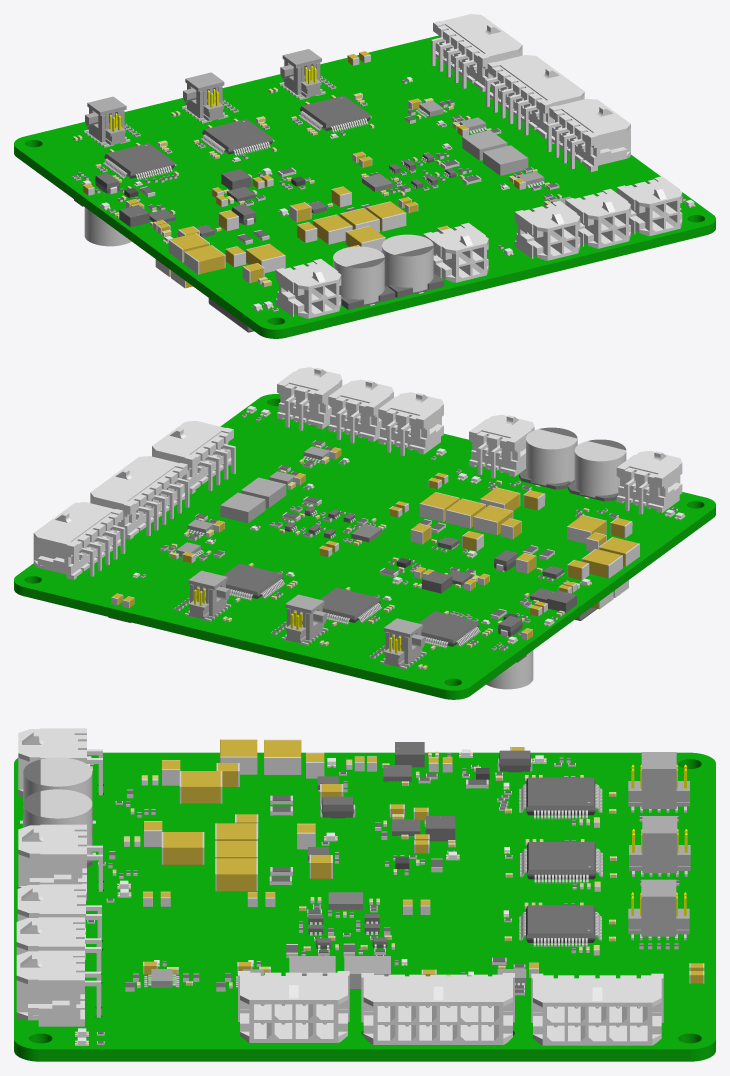
File: recovery-board.glb
3 renders of one model, top to bottom at view 1: azimuth 30°, elevation 25°; view 2: azimuth 150°, elevation 25°; view 3: azimuth 270°, elevation 25°, orthographic. The views are drawn at different scales.
Visible parts, largest first — view 1: Node3, Node10, Node9, Node2, Node25, Node15, Node22, Node18, Node16, Node5, Node24, Node4 (+5 smaller); view 2: Node3, Node10, Node9, Node2, Node25, Node15, Node22, Node18, Node5, Node16, Node4, Node7 (+6 smaller); view 3: Node3, Node10, Node2, Node9, Node25, Node15, Node22, Node18, Node5, Node16, Node1, Node24 (+7 smaller).
Boxes of the visible parts, left/top/right/bottom form: Node3: left=14, top=35, right=715, bottom=338; Node10: left=275, top=14, right=682, bottom=318; Node9: left=72, top=51, right=685, bottom=311; Node2: left=281, top=55, right=682, bottom=316; Node25: left=83, top=51, right=524, bottom=287; Node15: left=104, top=95, right=438, bottom=227; Node22: left=85, top=49, right=321, bottom=145; Node18: left=74, top=153, right=456, bottom=309; Node16: left=462, top=130, right=528, bottom=175; Node5: left=73, top=76, right=684, bottom=310; Node24: left=73, top=88, right=561, bottom=286; Node4: left=74, top=77, right=682, bottom=311; Node3: left=14, top=394, right=715, bottom=699; Node10: left=33, top=367, right=682, bottom=579; Node9: left=111, top=413, right=677, bottom=689; Node2: left=90, top=379, right=682, bottom=539; Node25: left=112, top=448, right=638, bottom=639; Node15: left=223, top=509, right=576, bottom=646; Node22: left=188, top=570, right=425, bottom=667; Node18: left=284, top=427, right=626, bottom=662; Node5: left=141, top=414, right=676, bottom=657; Node16: left=220, top=477, right=286, bottom=523; Node4: left=143, top=415, right=676, bottom=658; Node7: left=176, top=446, right=329, bottom=556; Node3: left=14, top=752, right=715, bottom=1061; Node10: left=16, top=728, right=663, bottom=1045; Node2: left=16, top=757, right=514, bottom=1044; Node9: left=20, top=739, right=704, bottom=1044; Node25: left=143, top=740, right=702, bottom=983; Node15: left=308, top=742, right=595, bottom=942; Node22: left=628, top=752, right=690, bottom=936; Node18: left=23, top=750, right=530, bottom=948; Node5: left=88, top=753, right=679, bottom=1043; Node16: left=289, top=956, right=390, bottom=988; Node1: left=144, top=781, right=602, bottom=987; Node24: left=112, top=752, right=615, bottom=985.
Bounding box in the file's own units: 102 × 20.79 × 102.
